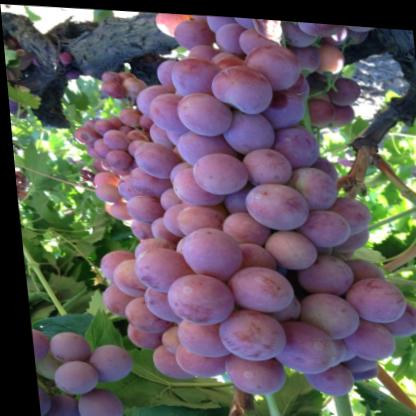grape: (21, 1, 416, 416)
